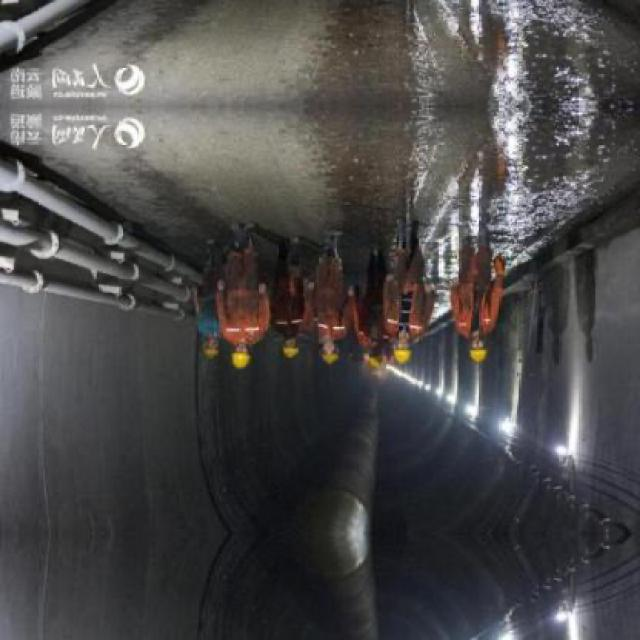con casco: (202, 317, 264, 375), (313, 325, 362, 379), (458, 329, 490, 371), (394, 336, 432, 362)
